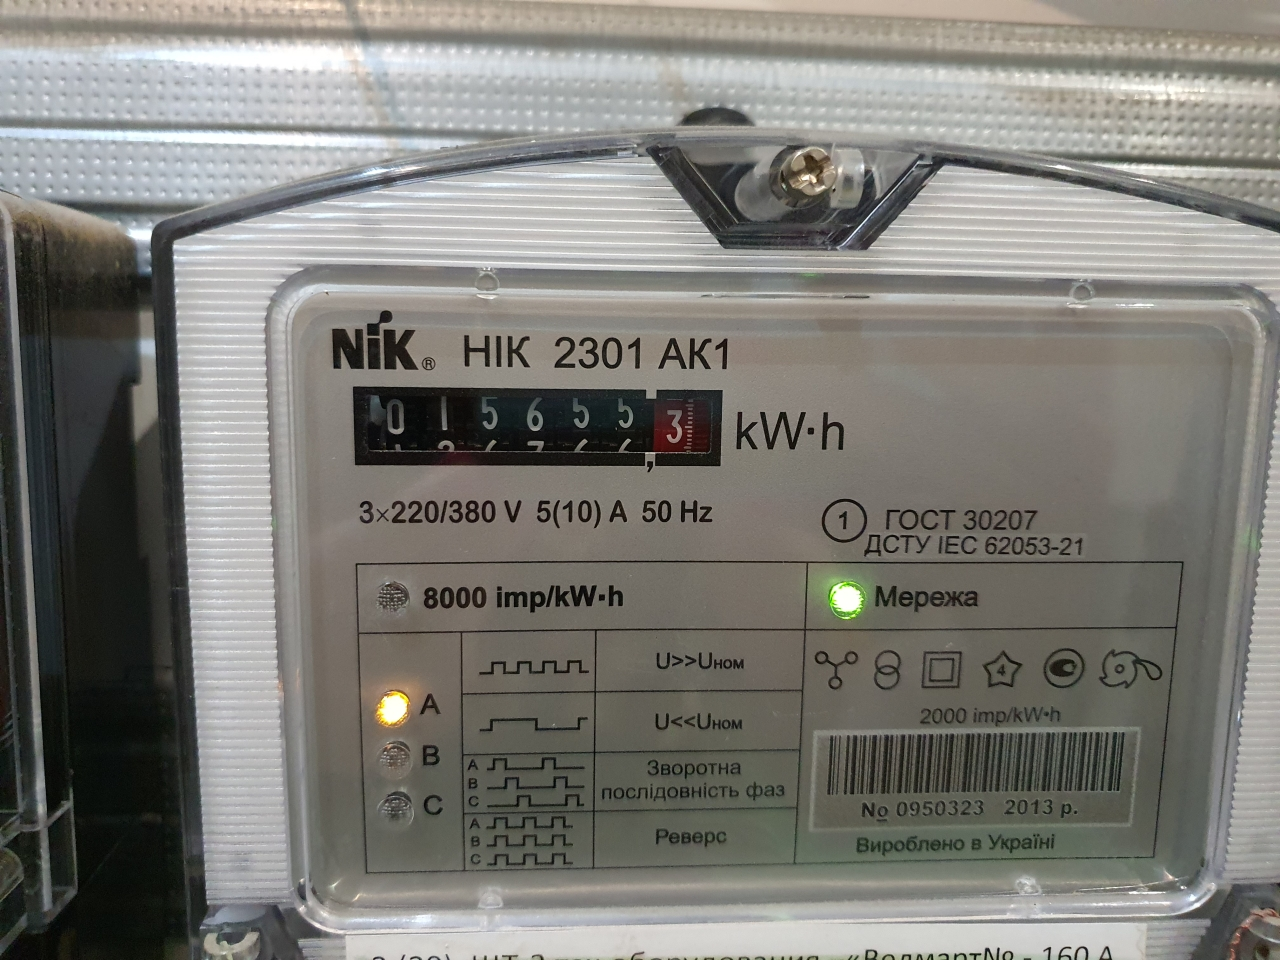0: (382, 395, 407, 436)
1: (434, 394, 453, 433)
3: (664, 408, 683, 444)
5: (476, 396, 500, 431), (569, 398, 592, 429), (616, 397, 635, 430)
6: (523, 397, 546, 433)
screen: (339, 371, 736, 482)
